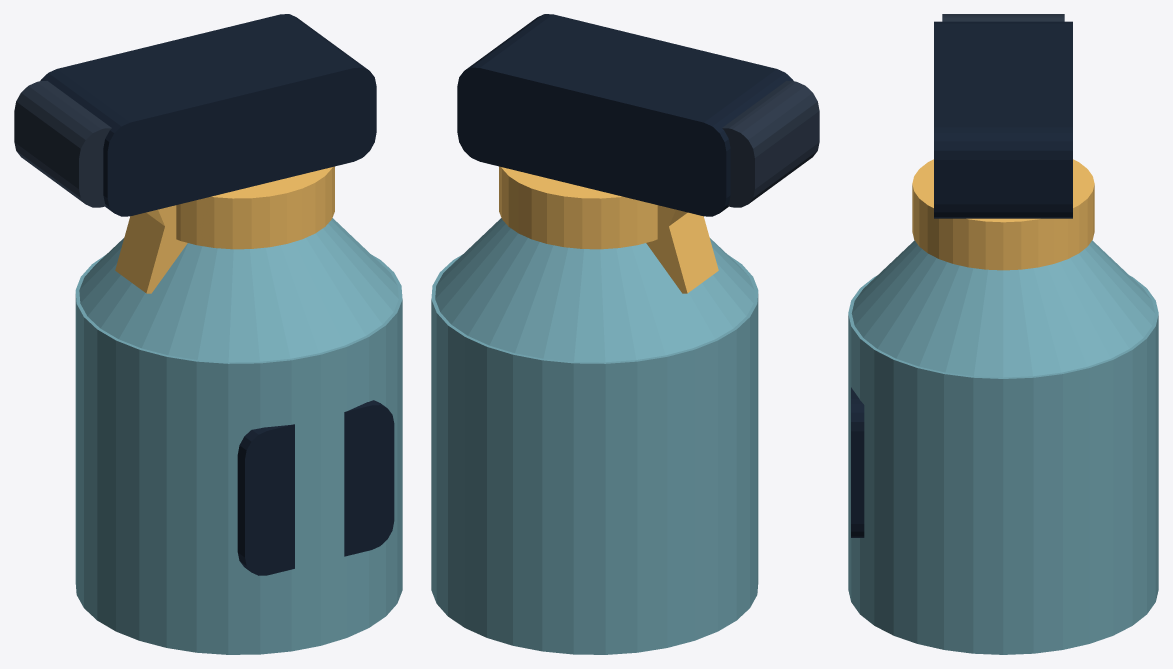
Rendered from lensbottle.glb.
3 views of the same model, side by side, from view 1: azimuth 30°, elevation 25°; view 2: azimuth 150°, elevation 25°; view 3: azimuth 270°, elevation 25° (orthographic). The views are drawn at different scales.
Visible parts, largest first — view 1: bottle, sprayer, shoulder, label, collar, nozzle, trigger; view 2: bottle, sprayer, shoulder, collar, nozzle, trigger; view 3: bottle, shoulder, sprayer, collar, label, nozzle.
Boxes of the visible parts, bbox=[...] form: bottle: bbox=[75, 255, 402, 654]; sprayer: bbox=[40, 14, 376, 216]; shoulder: bbox=[79, 218, 398, 362]; label: bbox=[237, 400, 394, 575]; collar: bbox=[176, 166, 334, 249]; nozzle: bbox=[14, 81, 111, 207]; trigger: bbox=[115, 205, 187, 293]; bottle: bbox=[431, 255, 758, 654]; sprayer: bbox=[457, 14, 793, 216]; shoulder: bbox=[435, 218, 754, 362]; collar: bbox=[499, 166, 657, 249]; nozzle: bbox=[722, 81, 819, 207]; trigger: bbox=[646, 205, 718, 293]; bottle: bbox=[848, 276, 1158, 654]; shoulder: bbox=[851, 240, 1155, 377]; sprayer: bbox=[934, 21, 1072, 218]; collar: bbox=[912, 159, 1094, 270]; label: bbox=[851, 387, 864, 537]; nozzle: bbox=[942, 14, 1064, 21].
Size of the model in its own units: 0.895 by 1.34 by 0.76.
